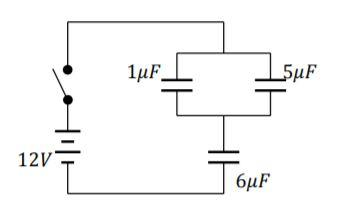Capacitor: (156, 71, 201, 96)
